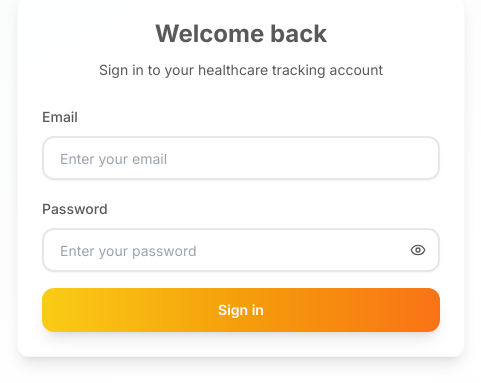
it: LoginForm › toggles password visibility
Step 1. Click the button named "Show password" → (418, 250), box x1=396 y1=228 x2=440 y2=272
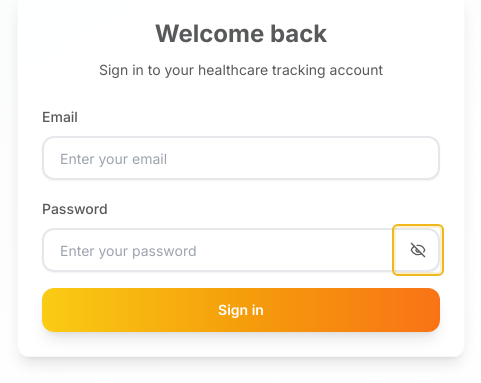
Result: the button named "Hide password" is shown
Step 2. Click the button named "Hide password" → (418, 250), box x1=396 y1=228 x2=440 y2=272
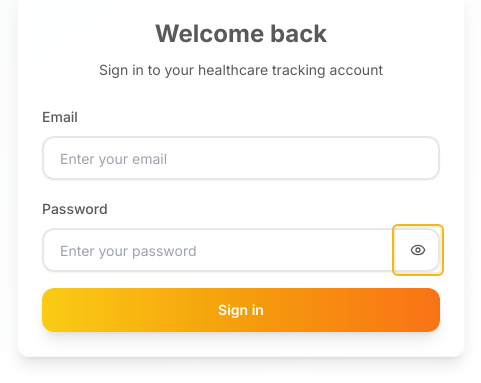
Result: the button named "Show password" is shown at x1=396 y1=228 x2=440 y2=272
